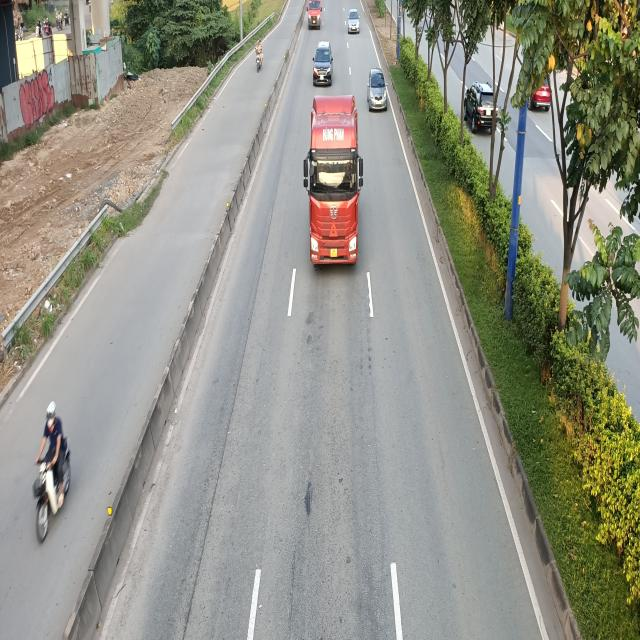car: (312, 41, 334, 87), (368, 69, 389, 111), (348, 10, 360, 34)
container: (302, 96, 362, 267)
